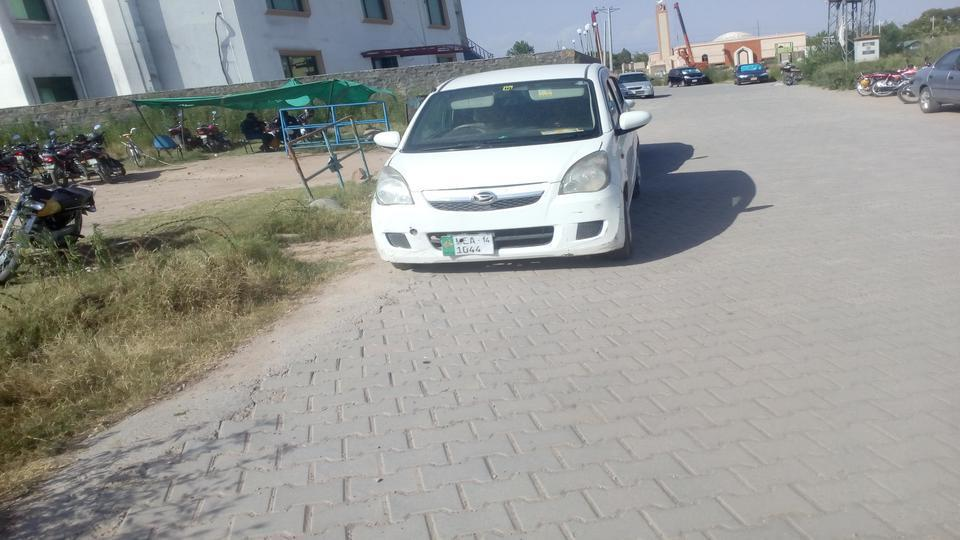NumberPlate: (433, 230, 503, 260)
